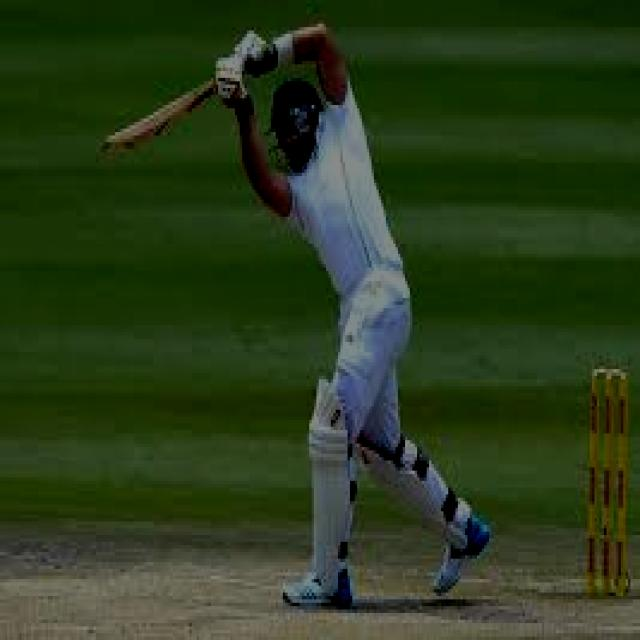toe: (102, 121, 148, 161)
